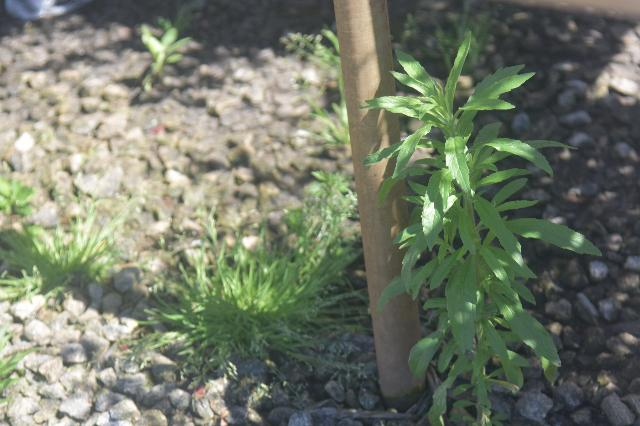MalezaMontesDelPlata: (381, 28, 604, 426), (150, 235, 331, 371), (0, 191, 143, 299), (301, 172, 364, 299)
